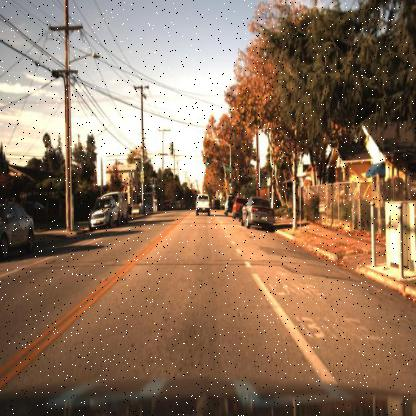car: (0, 201, 37, 260), (85, 191, 121, 237), (240, 190, 277, 233), (192, 187, 212, 224), (25, 194, 45, 222), (117, 189, 129, 227), (231, 194, 243, 223), (221, 192, 233, 218)
trafficLight-Green: (202, 154, 212, 172), (227, 174, 234, 194), (226, 178, 233, 191), (150, 180, 156, 195)
